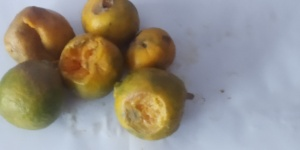BAD: (107, 68, 187, 142), (1, 5, 74, 70), (61, 33, 125, 104), (1, 62, 63, 130), (120, 27, 176, 80), (80, 1, 141, 48)
